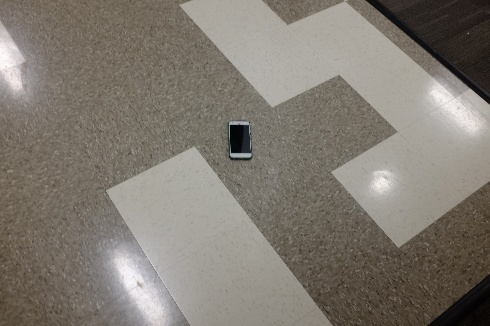phone: (216, 126, 265, 158)
